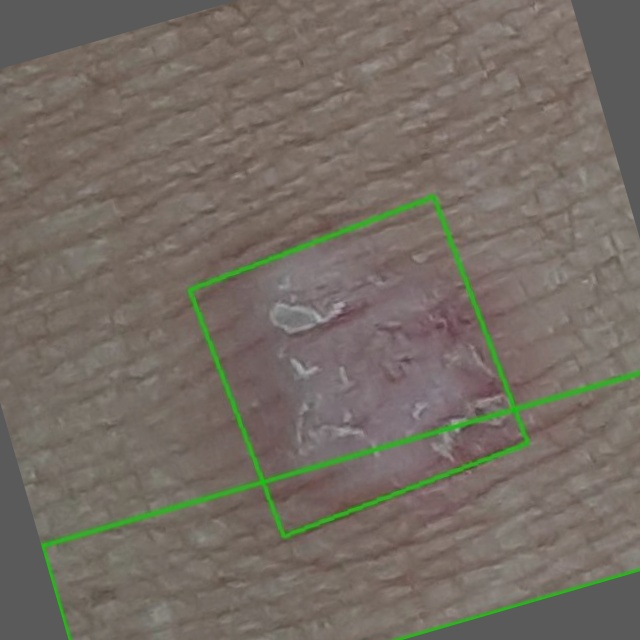Contact Dermatitis: (42, 373, 639, 639), (190, 197, 528, 536)
